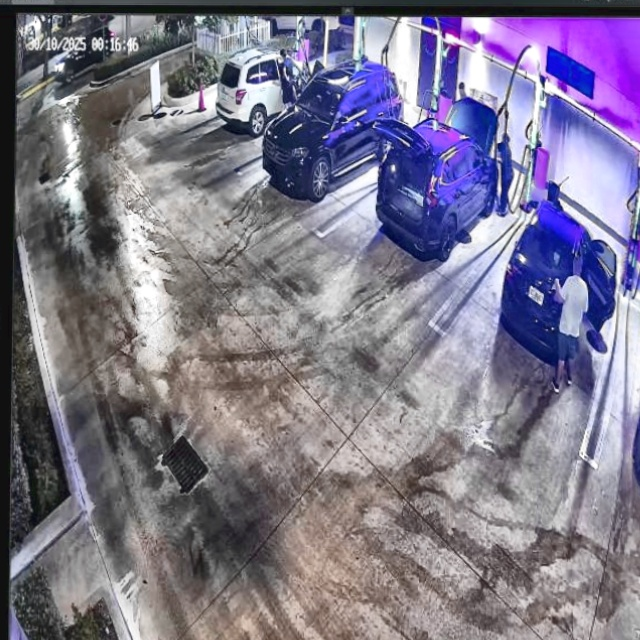Car: (377, 96, 498, 265), (264, 60, 403, 190)
